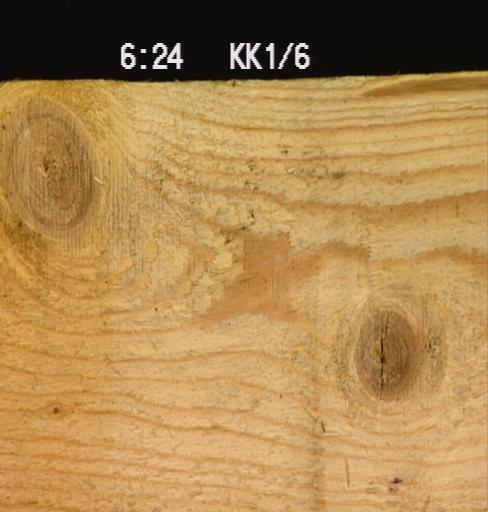small_knot: (47, 401, 63, 418)
sound_knot: (0, 78, 125, 250), (347, 301, 424, 407)
